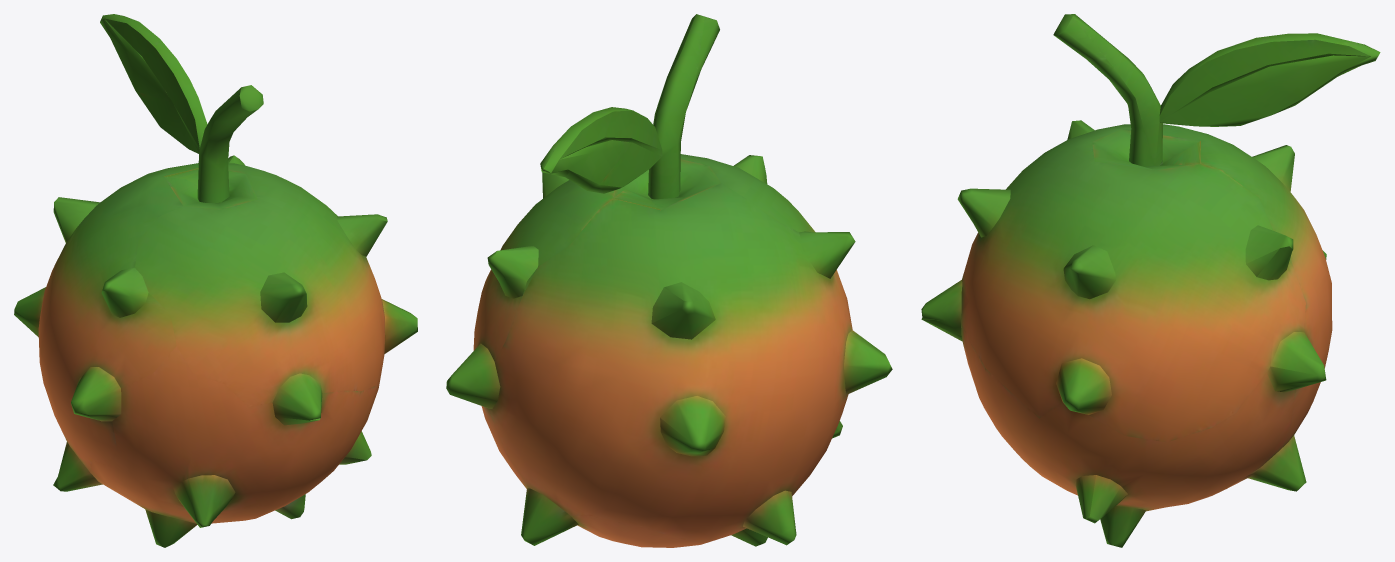
The model's file is m2JungleFruitPod.glb.
3 views of the same model, side by side, from view 1: azimuth 30°, elevation 25°; view 2: azimuth 150°, elevation 25°; view 3: azimuth 270°, elevation 25° (orthographic). The views are drawn at different scales.
Visible parts, largest first — view 1: model; view 2: model; view 3: model.
Part boxes in pixels (bbox=[...]): model: bbox=[14, 14, 417, 547]; model: bbox=[446, 14, 892, 547]; model: bbox=[921, 14, 1380, 547].
Size of the model in its own units: 1.48 by 1.9 by 1.59.
1 material, 1 textured.
